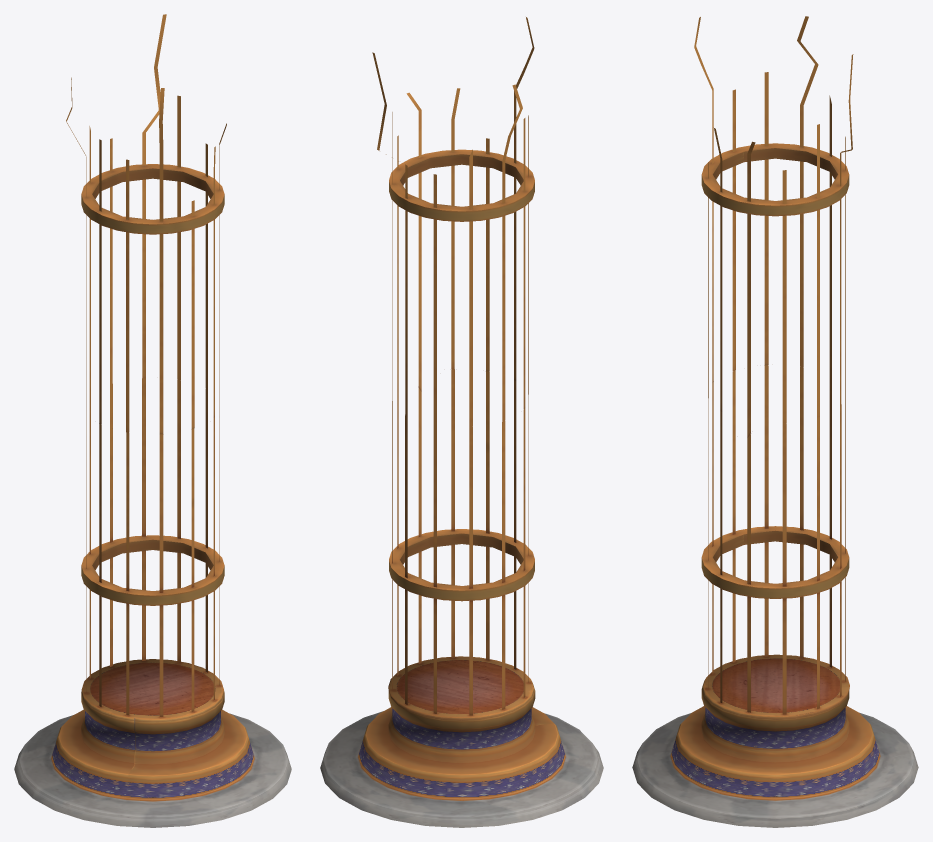
Rendered from SM_Birdcage_Broken.fbx.
3 views of the same model, side by side, from view 1: azimuth 30°, elevation 25°; view 2: azimuth 150°, elevation 25°; view 3: azimuth 270°, elevation 25° (orthographic). The views are drawn at different scales.
Visible parts, largest first — view 1: SM_Birdcage_Broken; view 2: SM_Birdcage_Broken; view 3: SM_Birdcage_Broken.
Part boxes in pixels (<box>): SM_Birdcage_Broken: <box>14,14,291,827</box>; SM_Birdcage_Broken: <box>320,17,603,827</box>; SM_Birdcage_Broken: <box>632,16,918,827</box>.
Bounding box in the file's own units: 3.12 × 8.86 × 3.12.
